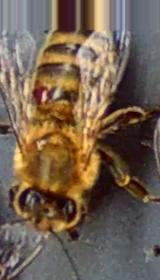varroa_mite: (26, 81, 61, 108)
